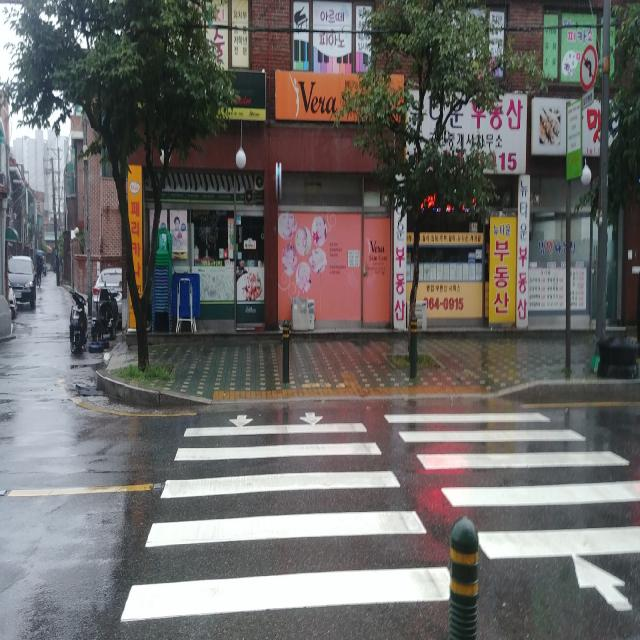횡단보도: (119, 408, 640, 628)
